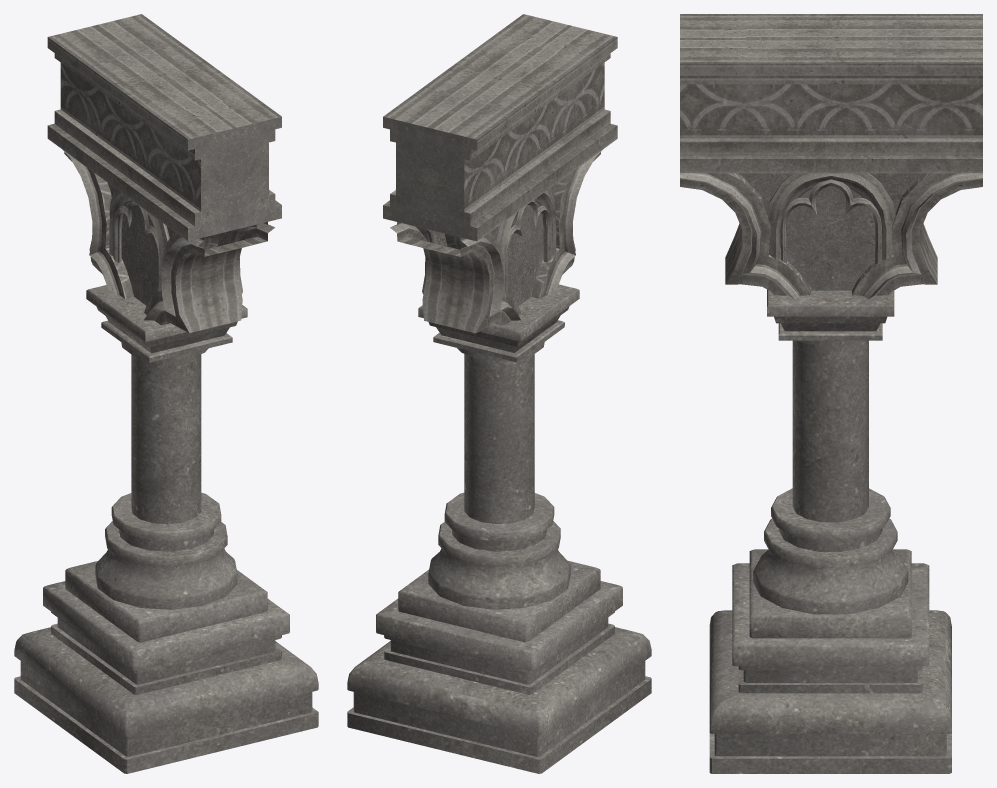
File: SM_Railing_01.fbx
3 renders of one model, left to right at view 1: azimuth 30°, elevation 25°; view 2: azimuth 150°, elevation 25°; view 3: azimuth 270°, elevation 25°, orthographic. The views are drawn at different scales.
Parts seen in each view (by area): view 1: SM_Railing_01_LOD0; view 2: SM_Railing_01_LOD0; view 3: SM_Railing_01_LOD0.
Boxes of the visible parts, bbox=[...] form: SM_Railing_01_LOD0: bbox=[14, 14, 318, 773]; SM_Railing_01_LOD0: bbox=[347, 14, 651, 773]; SM_Railing_01_LOD0: bbox=[680, 14, 982, 773].
Bounding box in the file's own units: 40 × 50 × 124.
